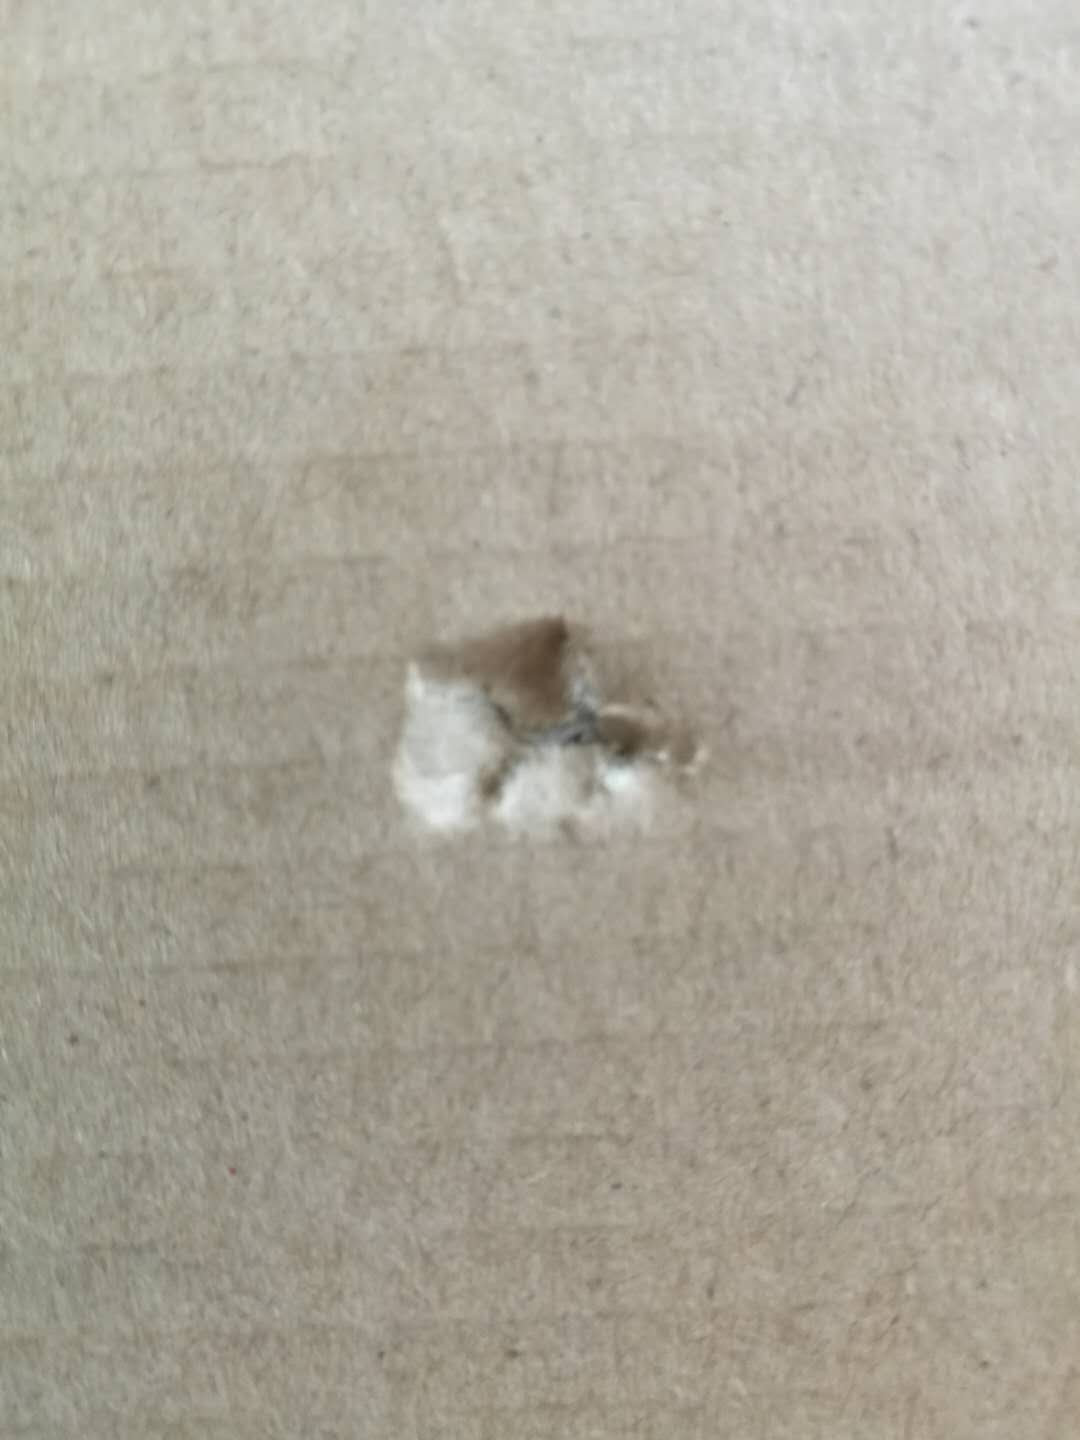defect: (351, 567, 751, 892)
